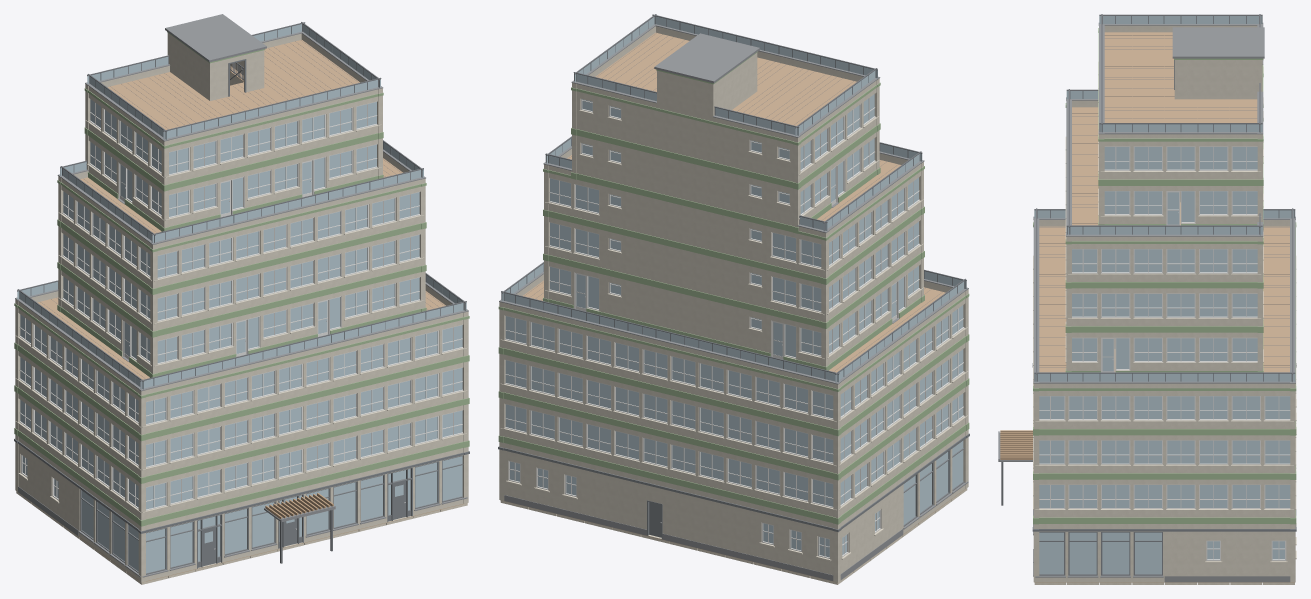
Rendered from building_assembled.glb.
3 renders of one model, left to right at view 1: azimuth 30°, elevation 25°; view 2: azimuth 150°, elevation 25°; view 3: azimuth 270°, elevation 25°, orthographic. The views are drawn at different scales.
Parts seen in each view (by area): view 1: building_panel, building_glass, building_band, building_frame, building_deck, building_coping, building_shopframe, building_iron, building_plaster, building_door, building_dark, building_canopy; view 2: building_panel, building_glass, building_band, building_frame, building_coping, building_deck, building_iron, building_shopframe, building_plaster, building_dark; view 3: building_panel, building_glass, building_deck, building_band, building_frame, building_coping, building_iron, building_dark, building_shopframe, building_canopy, building_plaster.
Part boxes in pixels (<box>): building_panel: <box>15,33,468,582</box>; building_glass: <box>17,24,466,573</box>; building_band: <box>14,31,469,526</box>; building_frame: <box>19,101,463,510</box>; building_deck: <box>37,40,445,379</box>; building_coping: <box>15,14,468,577</box>; building_shopframe: <box>14,59,469,574</box>; building_iron: <box>17,22,466,563</box>; building_plaster: <box>16,61,467,584</box>; building_door: <box>202,481,406,566</box>; building_dark: <box>41,40,444,378</box>; building_canopy: <box>265,493,333,519</box>; building_panel: <box>499,26,968,582</box>; building_glass: <box>501,16,966,557</box>; building_band: <box>498,51,969,524</box>; building_frame: <box>505,98,964,558</box>; building_coping: <box>499,24,968,580</box>; building_deck: <box>523,32,945,372</box>; building_iron: <box>501,14,966,382</box>; building_shopframe: <box>498,433,969,538</box>; building_plaster: <box>500,488,967,584</box>; building_dark: <box>525,33,942,371</box>; building_panel: <box>1033,25,1296,582</box>; building_glass: <box>1034,16,1295,574</box>; building_deck: <box>1039,32,1289,372</box>; building_band: <box>1033,28,1296,524</box>; building_frame: <box>1039,146,1290,560</box>; building_coping: <box>998,23,1295,582</box>; building_iron: <box>1001,14,1295,505</box>; building_dark: <box>1039,35,1289,367</box>; building_shopframe: <box>1032,60,1296,575</box>; building_canopy: <box>1000,430,1032,459</box>; building_plaster: <box>1034,191,1294,584</box>.
Size of the model in its own units: 24.18 by 31.14 by 18.29.
Materials: 16 (2 with a texture image).
